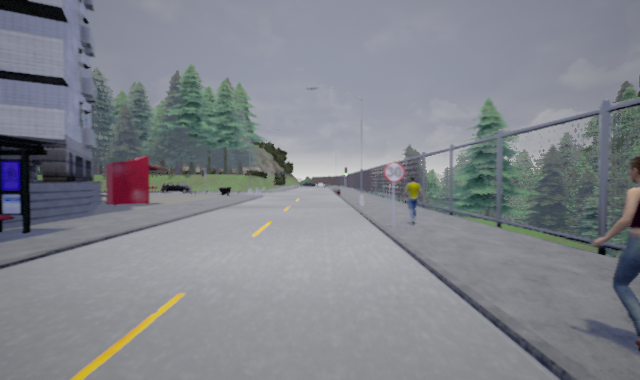pedestrian: (589, 154, 639, 348), (400, 174, 424, 224)
